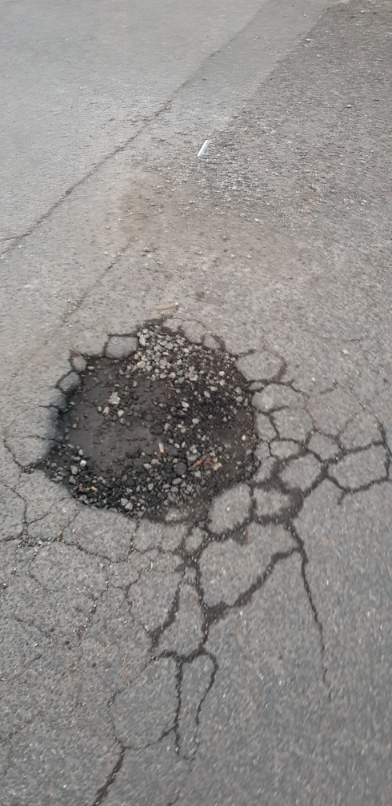pothole: (30, 310, 270, 535)
